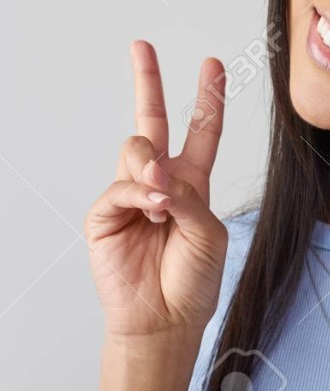peace: (82, 39, 230, 333)
